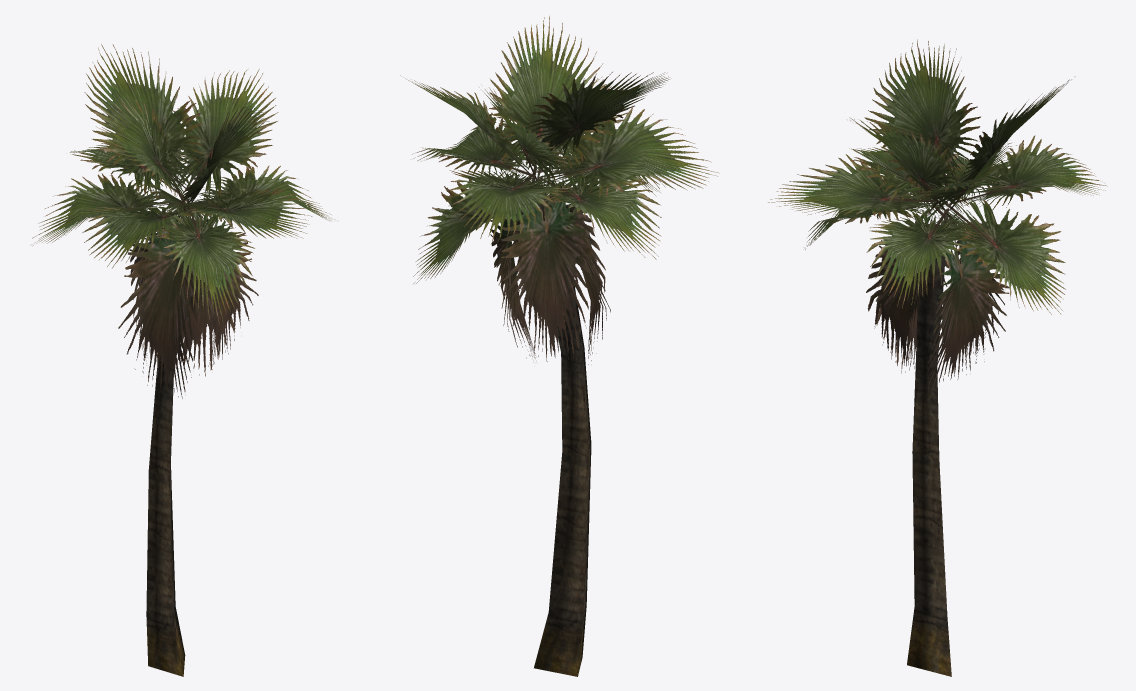
The model's file is Gobi_Tree04.FBX.
3 views of the same model, side by side, from view 1: azimuth 30°, elevation 25°; view 2: azimuth 150°, elevation 25°; view 3: azimuth 270°, elevation 25° (orthographic). The views are drawn at different scales.
Parts seen in each view (by area): view 1: Gobi_Tree04; view 2: Gobi_Tree04; view 3: Gobi_Tree04.
Part boxes in pixels (x1,y1,x2,y2): Gobi_Tree04: [30, 44, 334, 676]; Gobi_Tree04: [400, 16, 719, 676]; Gobi_Tree04: [768, 39, 1107, 676].
Size of the model in its own units: 524 by 1007 by 542.
